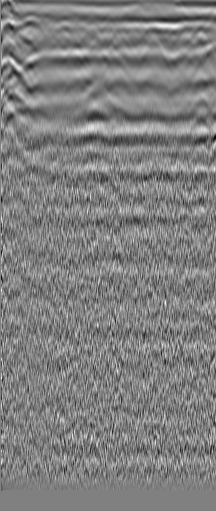오수: (16, 12, 49, 45)
우수: (168, 25, 198, 53)
